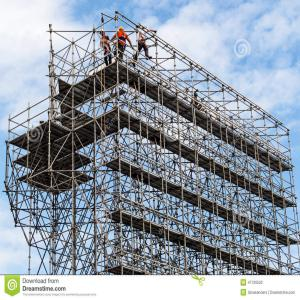blue: (143, 26, 148, 31)
white: (101, 30, 105, 37)
yellow: (119, 26, 125, 32)
